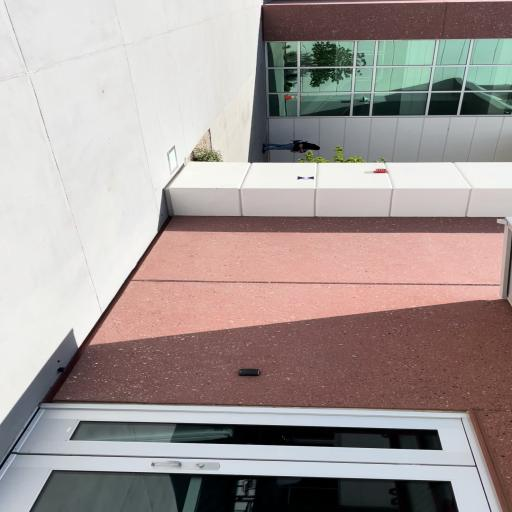target2: (297, 176, 315, 180)
